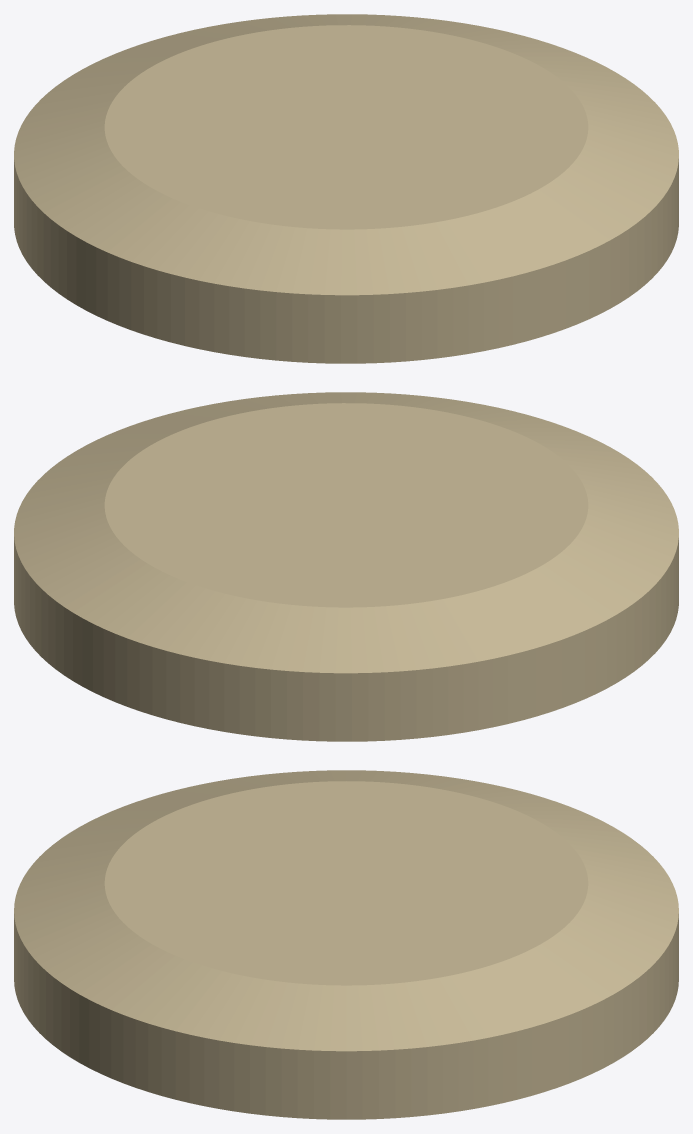
Rendered from memory-frond--limestone.glb.
3 views of the same model, one above another, from view 1: azimuth 30°, elevation 25°; view 2: azimuth 150°, elevation 25°; view 3: azimuth 270°, elevation 25° (orthographic).
Visible parts, largest first — view 1: memory-frond; view 2: memory-frond; view 3: memory-frond.
Part boxes in pixels (x1=…): memory-frond: x1=14, y1=14, x2=678, y2=363; memory-frond: x1=14, y1=392, x2=678, y2=741; memory-frond: x1=14, y1=770, x2=678, y2=1119.
Bounding box in the file's own units: 1.32 × 0.21 × 1.32.
